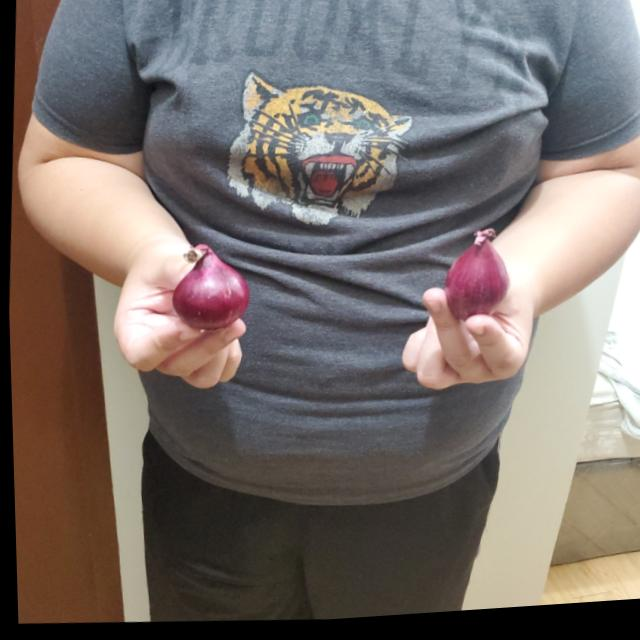onion: (168, 241, 250, 338), (438, 230, 512, 333)
